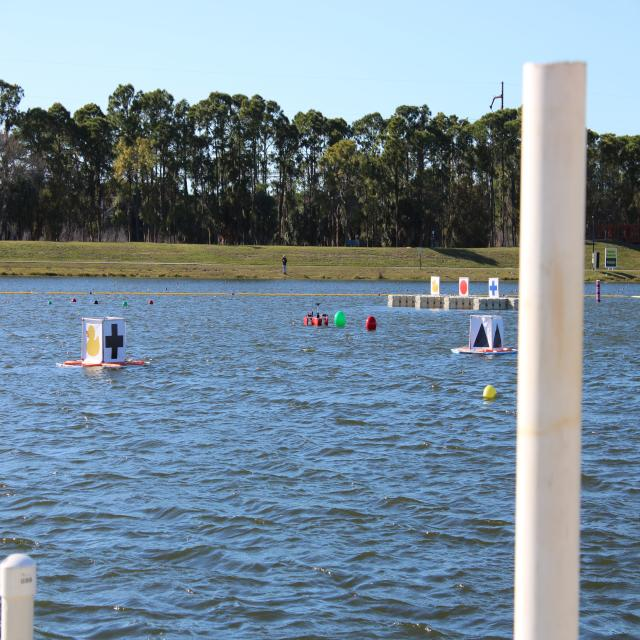blue-cross: (490, 277, 500, 299)
green-buoy: (336, 311, 347, 328)
red-buoy: (365, 317, 376, 334)
red-dot: (458, 276, 470, 298)
yellow-buoy: (485, 383, 498, 398)
yellow-duck: (84, 323, 103, 367), (431, 275, 441, 297)
